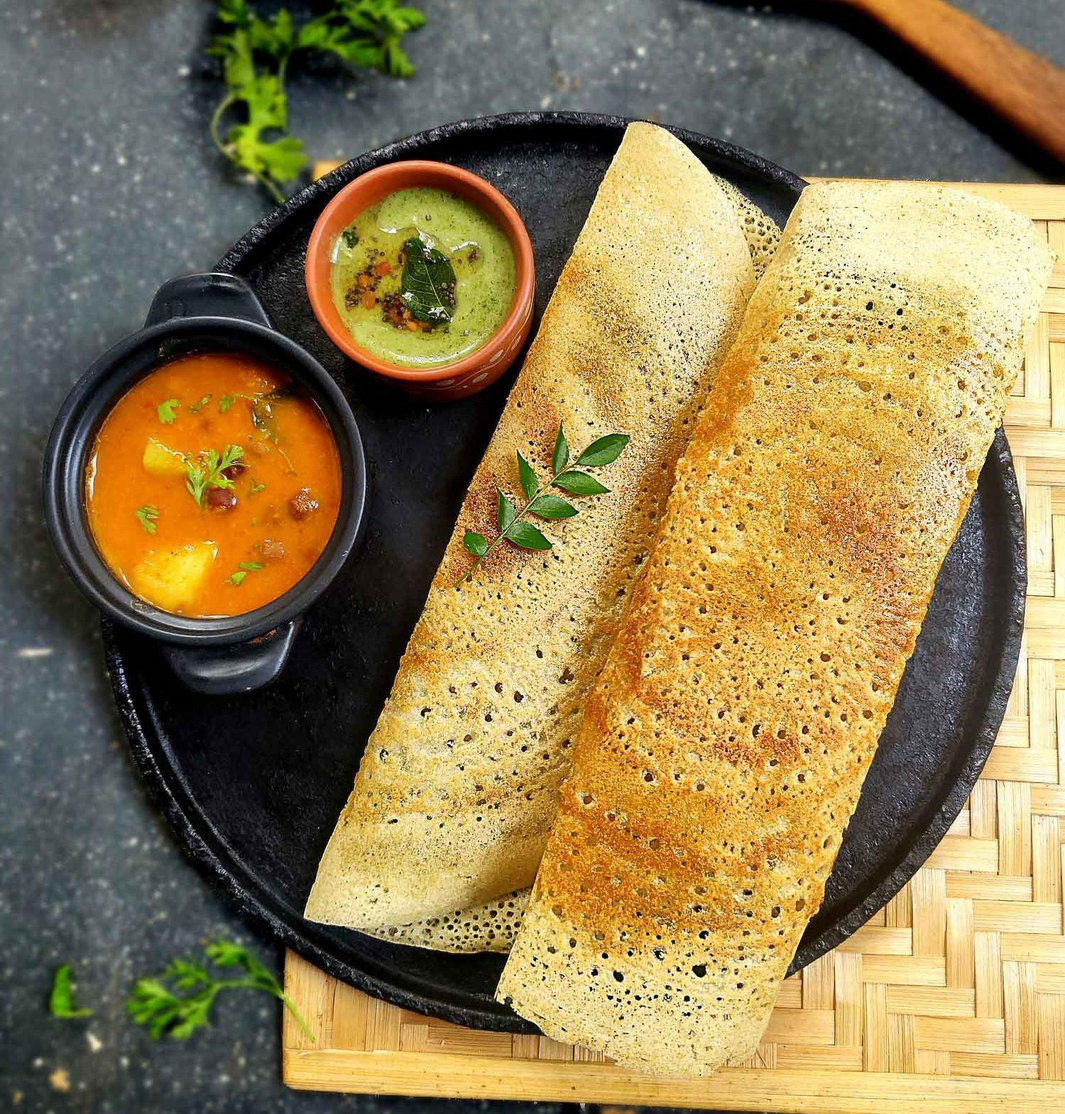Dosa: (496, 178, 1047, 1074), (304, 120, 780, 958)
